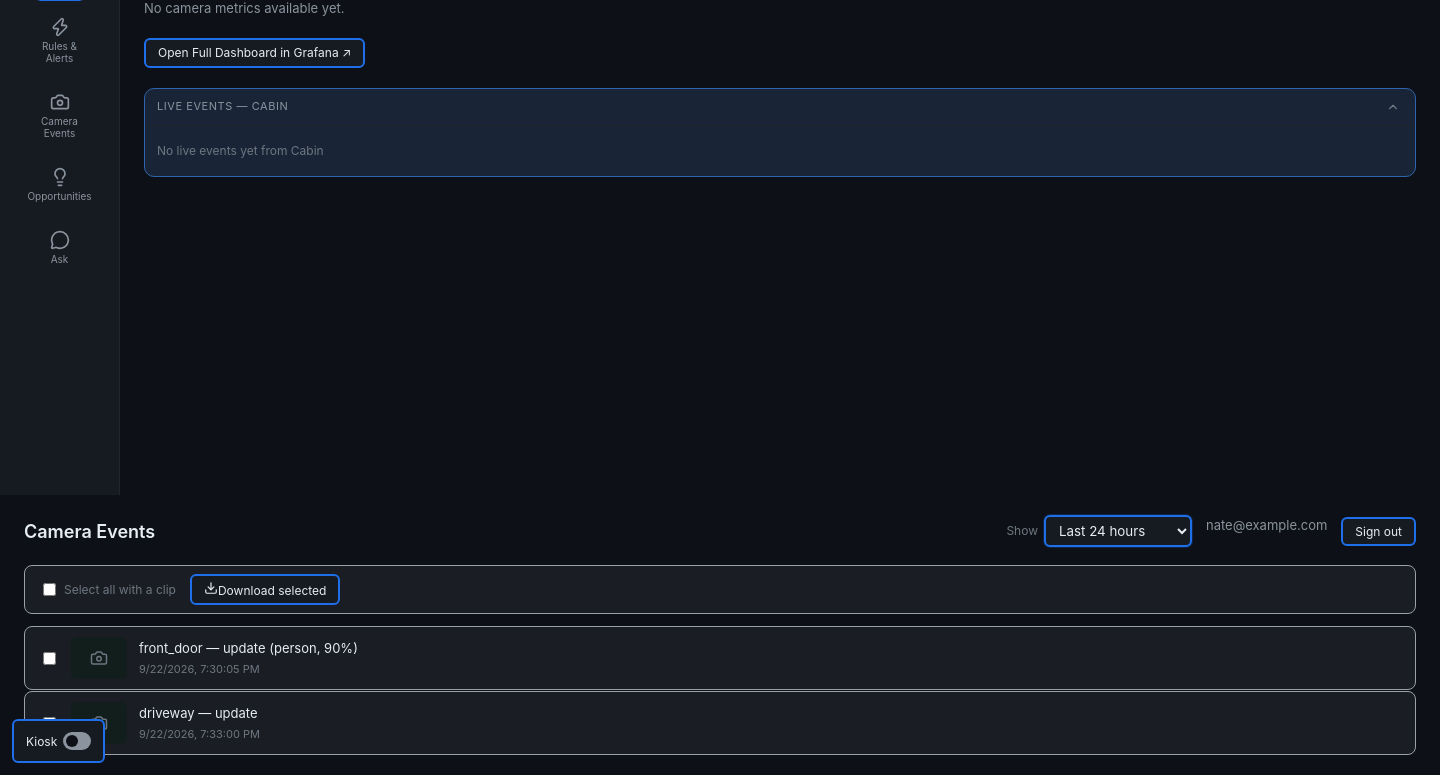
CameraEventsPanel — bulk clip download › a 404 on one clip doesn't abort the rest of the batch, and is reported honestly
The image size is (1440, 775).
(page scrolled)
expect the checkbox named "Select front_door clip for download" is shown: met, box [43,652,56,664]
Click the checkbox labelled "Select all with a clip" at (50, 590), box [43,583,56,596]
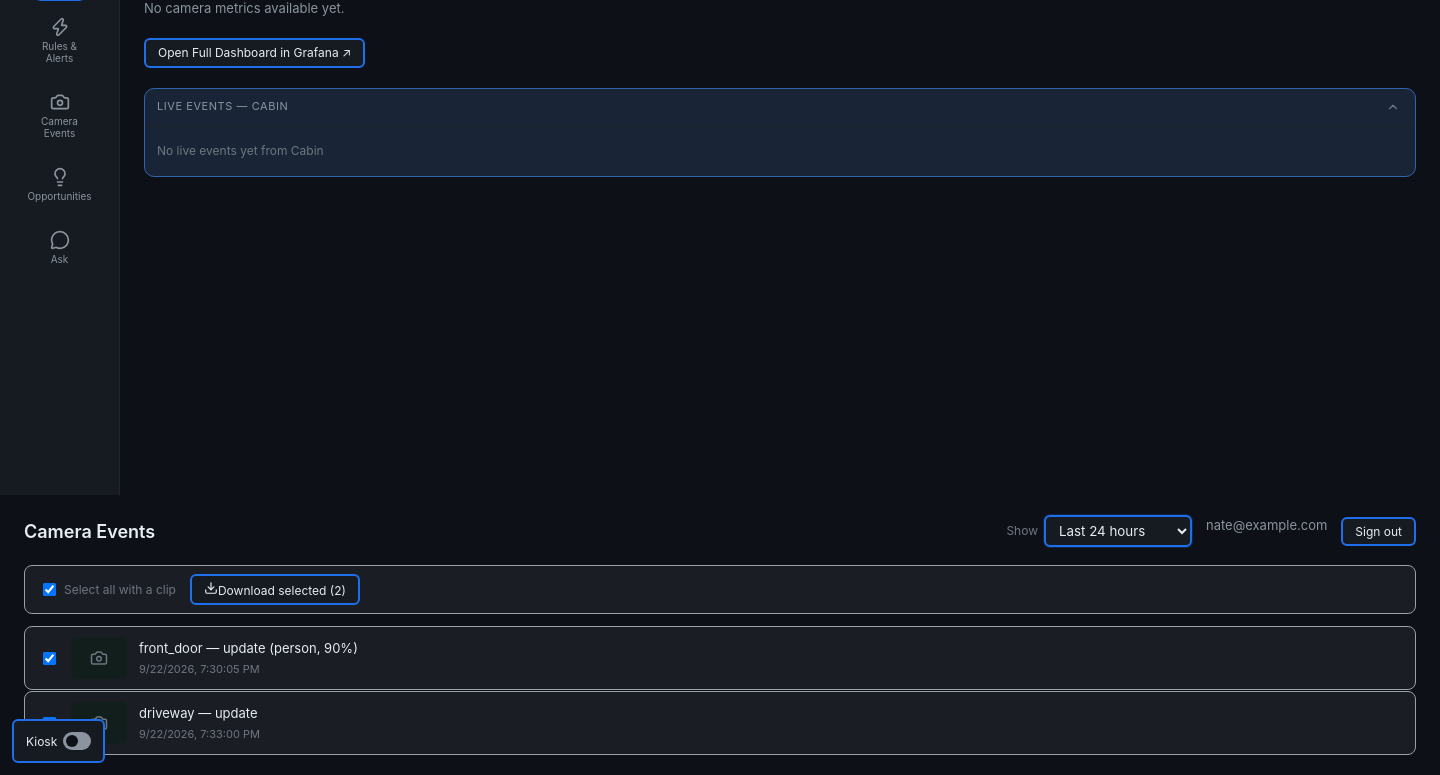
Click the button "Download selected (2)" at (275, 590), box [190,574,360,605]
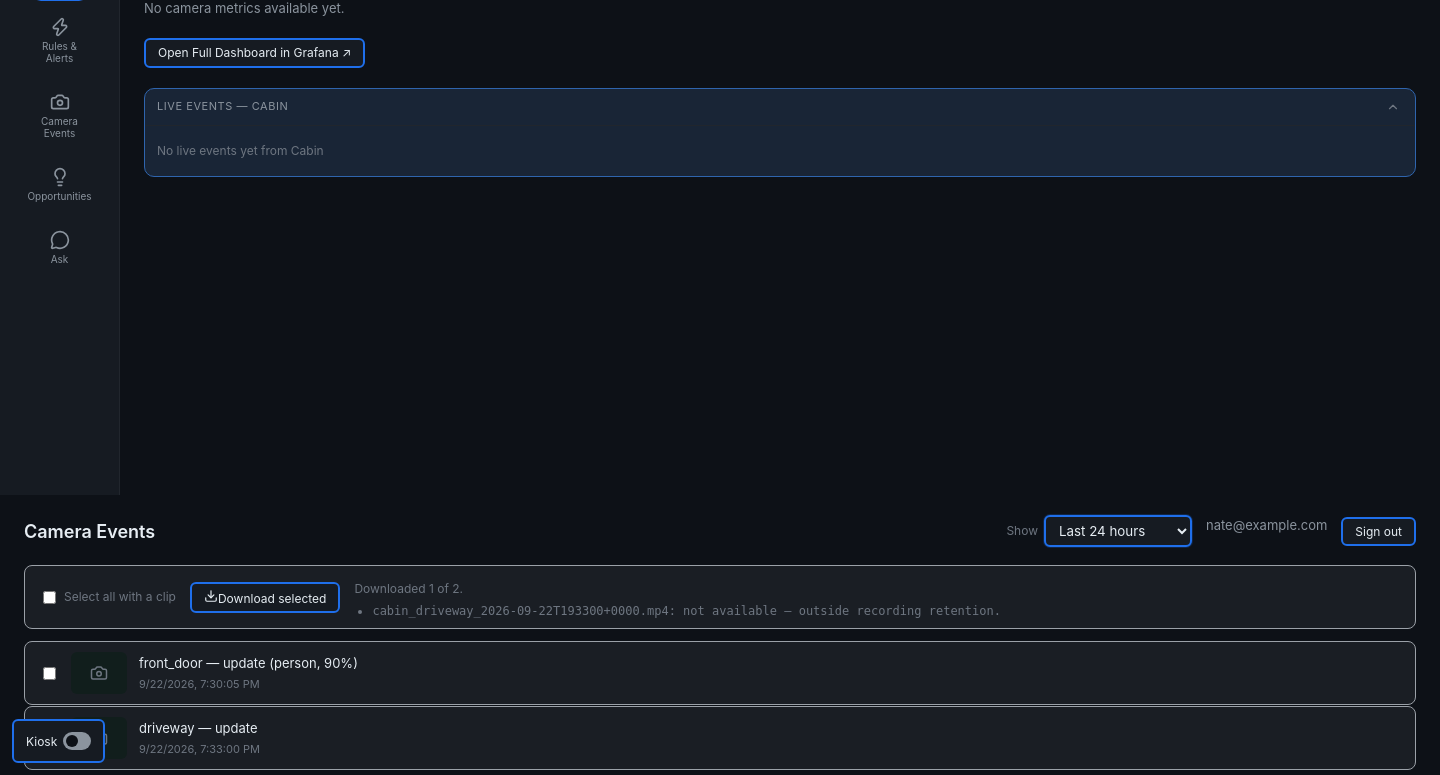
expect the text "Downloaded 1 of 2" is shown: met, box [354,581,463,596]
expect the list item "not available — outside recording retention" shows "driveway": met, box [372,604,669,618]
